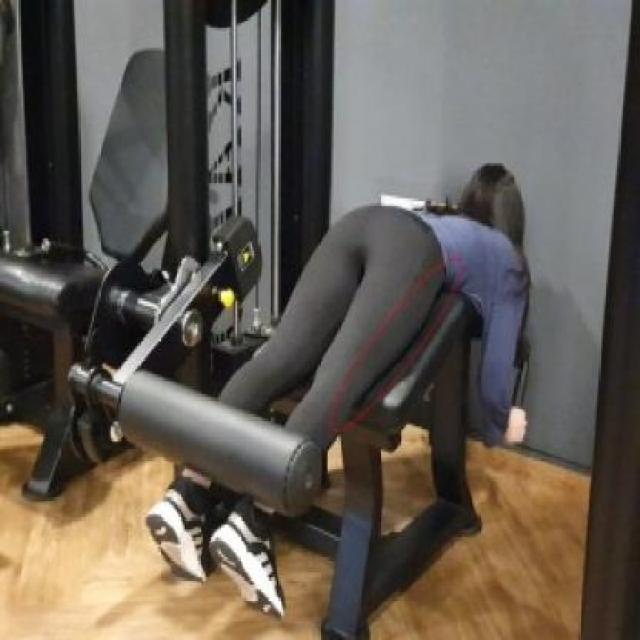reg curl machine: (69, 0, 537, 640)
